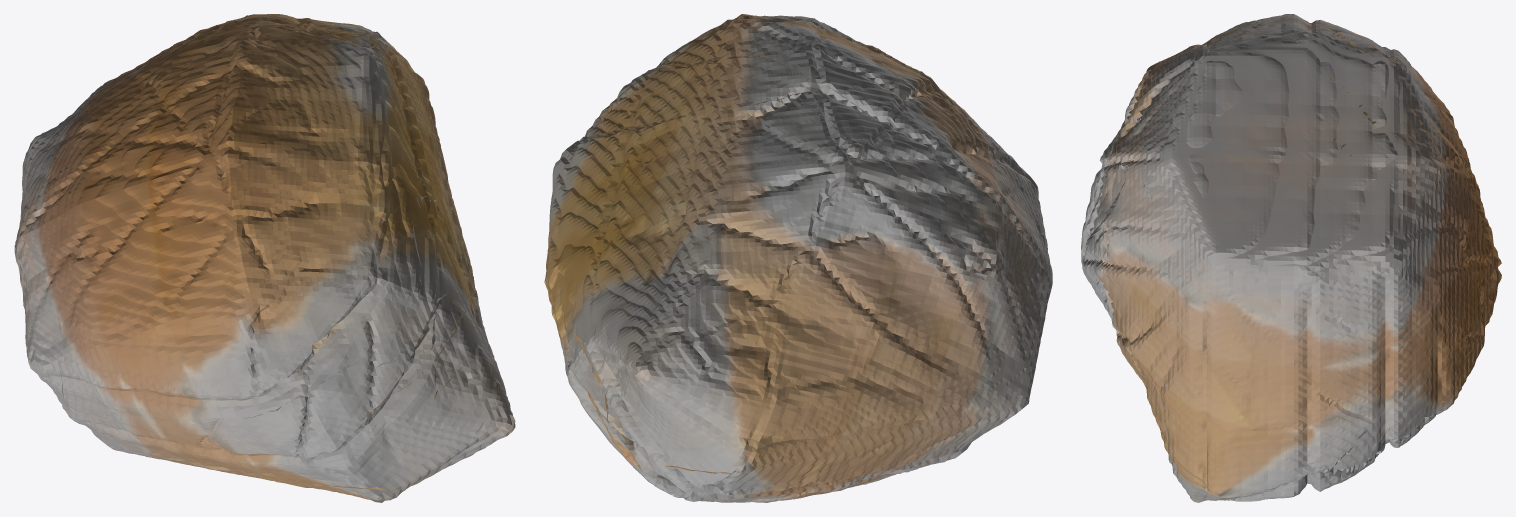
Rendered from forge.glb.
The picture shows the model from 3 angles, left to right: view 1: azimuth 30°, elevation 25°; view 2: azimuth 150°, elevation 25°; view 3: azimuth 270°, elevation 25°; orthographic projection. The views are drawn at different scales.
Visible parts, largest first — view 1: world; view 2: world; view 3: world.
Boxes of the visible parts, bbox=[...] form: world: bbox=[14, 14, 515, 502]; world: bbox=[544, 14, 1052, 502]; world: bbox=[1081, 14, 1501, 502].
Bounding box in the file's own units: 0.9047 × 1.02 × 0.8817.
